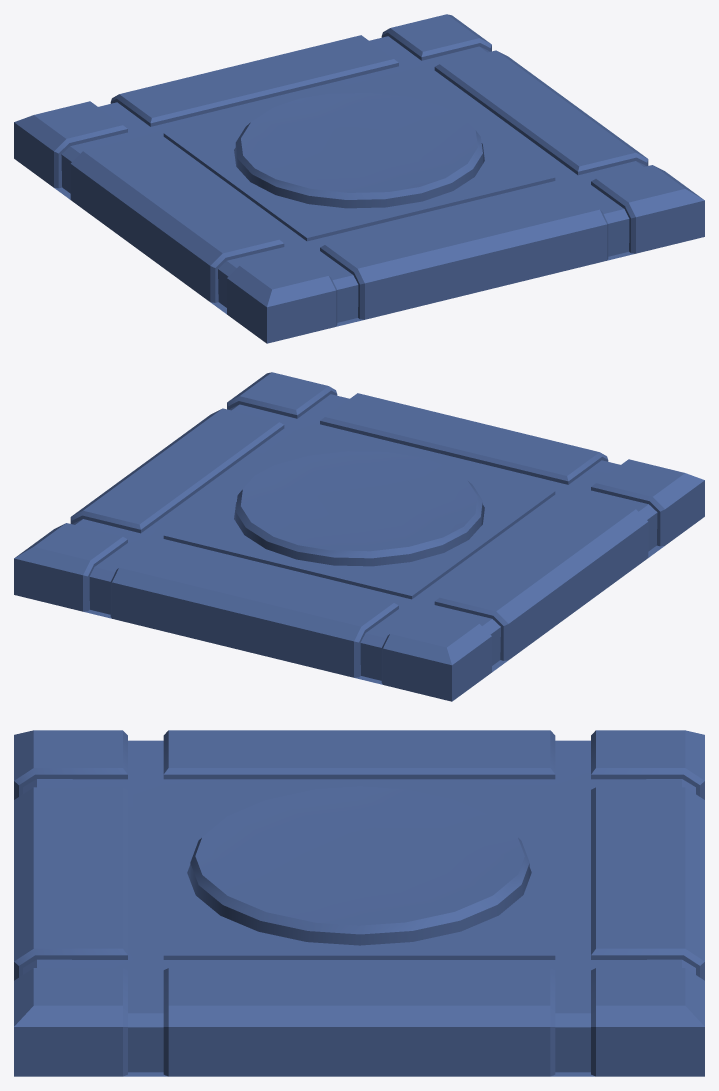
Rendered from Floor_Trigger_01.fbx.
3 renders of one model, top to bottom at view 1: azimuth 30°, elevation 25°; view 2: azimuth 150°, elevation 25°; view 3: azimuth 270°, elevation 25°, orthographic. The views are drawn at different scales.
Parts seen in each view (by area): view 1: Floor_Trigger_01; view 2: Floor_Trigger_01; view 3: Floor_Trigger_01.
Part boxes in pixels (<box>): Floor_Trigger_01: <box>14,14,704,343</box>; Floor_Trigger_01: <box>14,372,704,701</box>; Floor_Trigger_01: <box>14,730,704,1076</box>.
Bounding box in the file's own units: 160 × 19.08 × 160.
